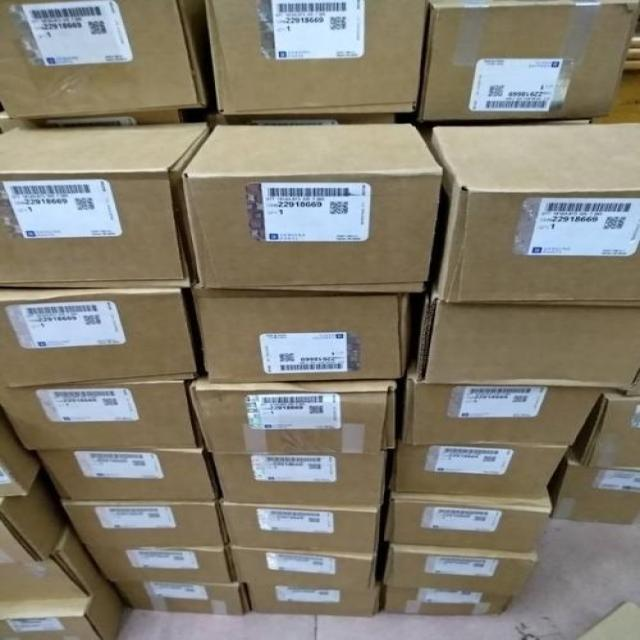box: (182, 124, 442, 292), (427, 123, 638, 307), (0, 122, 210, 288), (415, 0, 639, 121), (1, 0, 218, 119), (204, 0, 427, 114), (417, 281, 639, 390), (188, 282, 412, 383), (1, 287, 197, 388), (396, 357, 603, 446), (1, 363, 205, 451), (188, 371, 396, 454), (384, 453, 551, 553), (396, 418, 572, 498), (35, 443, 222, 500), (213, 448, 395, 505), (220, 494, 390, 553), (61, 493, 232, 547), (1, 518, 107, 602), (381, 541, 538, 596), (230, 543, 384, 594), (1, 579, 125, 639), (546, 446, 639, 524), (1, 462, 69, 565), (86, 541, 235, 584), (244, 572, 382, 617), (572, 388, 639, 467), (112, 582, 252, 615), (379, 584, 513, 616), (0, 109, 182, 132), (181, 114, 393, 132), (1, 407, 42, 496)
